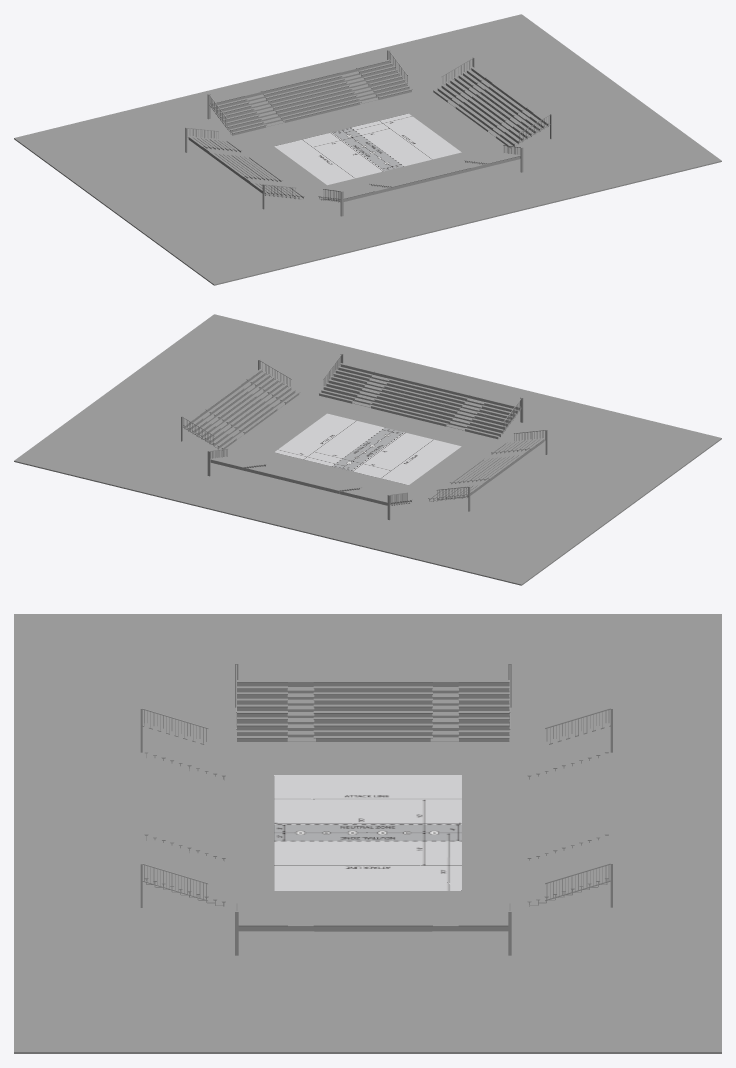
The model's file is StadiumTest.fbx.
3 views of the same model, one above another, from view 1: azimuth 30°, elevation 25°; view 2: azimuth 150°, elevation 25°; view 3: azimuth 270°, elevation 25° (orthographic). The views are drawn at different scales.
Parts seen in each view (by area): view 1: Court; view 2: Court; view 3: Court, Bleacher_platform5 (×2), Bleacher_platform (×2), Bleacher_platform9 (×2), Bleacher_platform8 (×2), Bleacher_platform6 (×2), Bleacher_platform2 (×2), Bleacher_platform7 (×2), Bleacher_platform4 (×2), Bleacher_platform3 (×2), Bleacher_planklong.
Boxes of the visible parts, x1,y1,x2,y2 form: Court: (14, 14, 721, 285); Court: (14, 314, 721, 585); Court: (14, 614, 721, 1053); Bleacher_platform5 (×2): (181, 740, 572, 895); Bleacher_platform (×2): (146, 729, 606, 884); Bleacher_platform9 (×2): (215, 750, 537, 905); Bleacher_platform8 (×2): (207, 748, 546, 903); Bleacher_platform6 (×2): (189, 742, 563, 897); Bleacher_platform2 (×2): (155, 732, 597, 887); Bleacher_platform7 (×2): (198, 745, 554, 900); Bleacher_platform4 (×2): (172, 737, 580, 892); Bleacher_platform3 (×2): (164, 734, 589, 889); Bleacher_planklong: (314, 926, 432, 931).
Size of the model in its own units: 226 by 11.89 by 155.
Materials: 2 (1 with a texture image).
